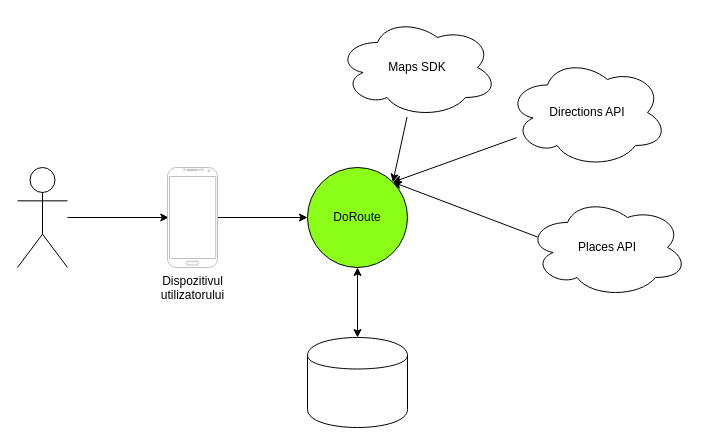
This 705x445 diagram has some shape labels left out. Here are the shapes that lost their labels. From the top down, the centre of each, then its label:
pixel 42 217: Utilizator
pixel 357 382: Bază de date locală
